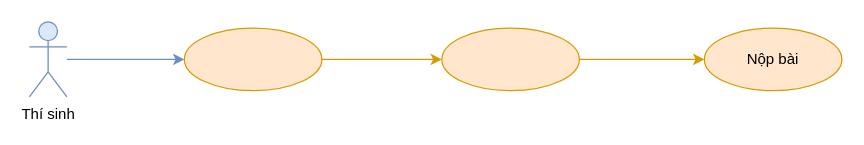
Some shapes in this 864 by 145 pixel diagram are drawn without their labels. The box of each missing label's shape, as (x1, y1, x2, y2) in pixels:
Kiểm tra thông tin: (183, 27, 322, 91)
Làm bài: (441, 27, 579, 91)
